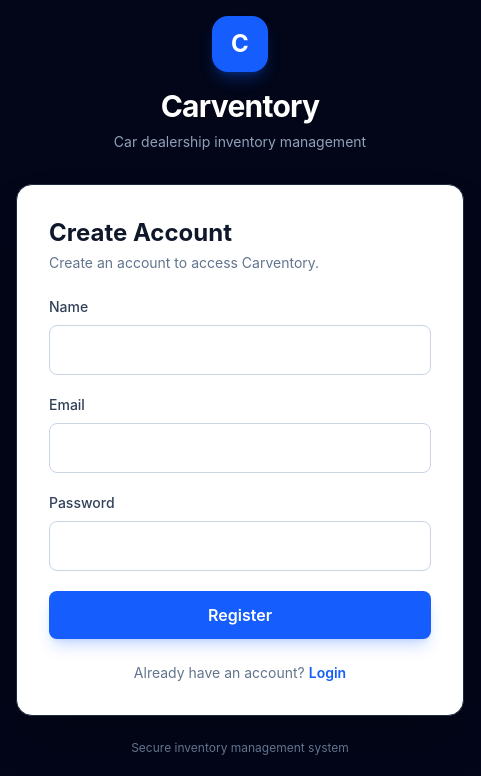
Test: RegisterPage › should display a success message after registration
Type "John Doe" into the field labelled "Name" at (240,350), box [49,325,431,375]
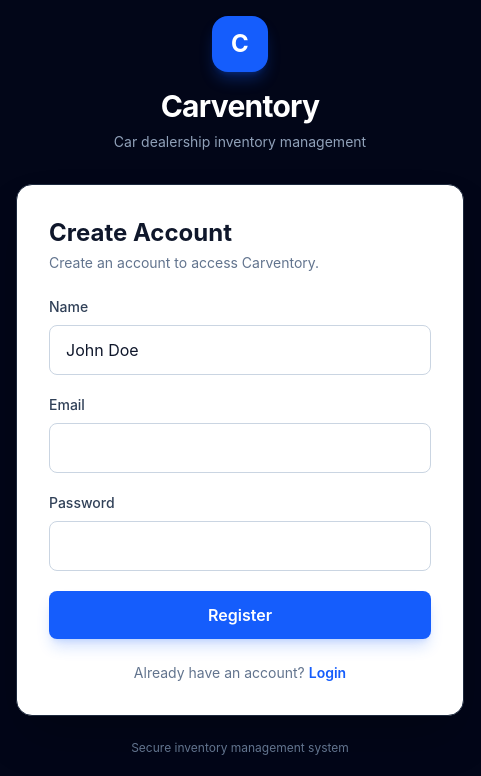
Type "john@example.com" into the field labelled "Email" at (240,448), box [49,423,431,473]
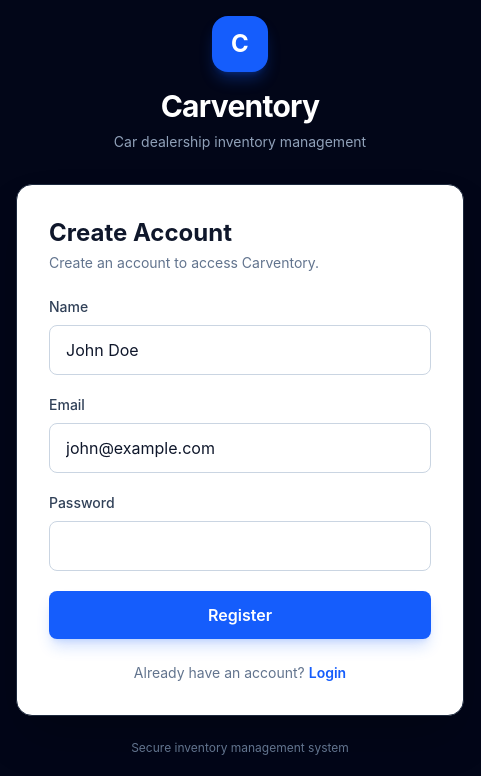
Type "Password123!" into the password field labelled "Password" at (240,546), box [49,521,431,571]
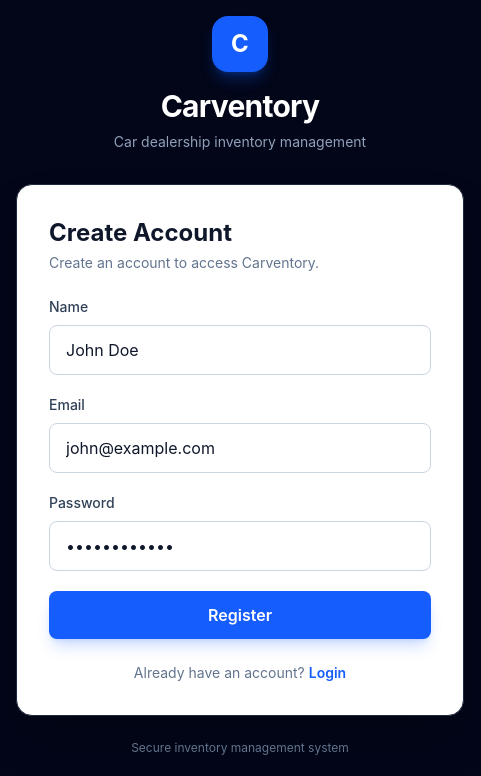
Click the button "Register" at (240,615), box [49,591,431,639]
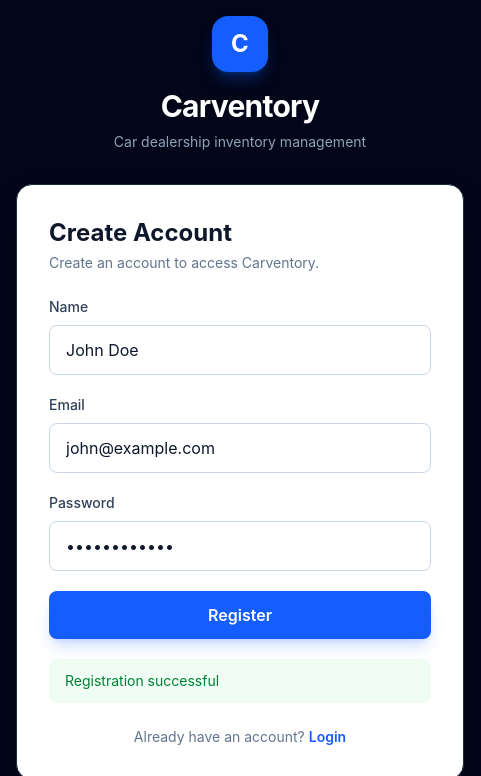
Expected: the text "Registration successful" is shown, [49,659,431,703]
